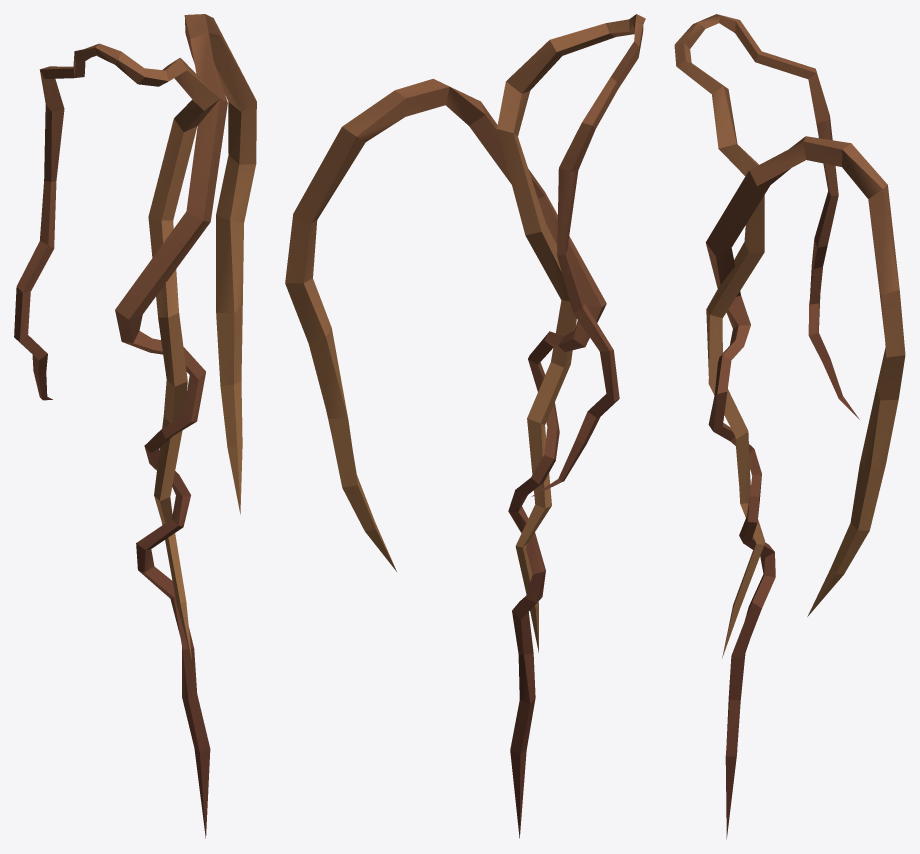
Rendered from ZLP_Plant_Vine_A_7.FBX.
The picture shows the model from 3 angles, left to right: view 1: azimuth 30°, elevation 25°; view 2: azimuth 150°, elevation 25°; view 3: azimuth 270°, elevation 25°; orthographic projection. The views are drawn at different scales.
Visible parts, largest first — view 1: ZLP_Plant_Vine_A_7; view 2: ZLP_Plant_Vine_A_7; view 3: ZLP_Plant_Vine_A_7.
Boxes of the visible parts, left/top/right/bottom form: ZLP_Plant_Vine_A_7: left=14, top=14, right=256, bottom=838; ZLP_Plant_Vine_A_7: left=285, top=14, right=645, bottom=838; ZLP_Plant_Vine_A_7: left=674, top=14, right=905, bottom=839.
Bounding box in the file's own units: 120 × 340 × 92.06.
